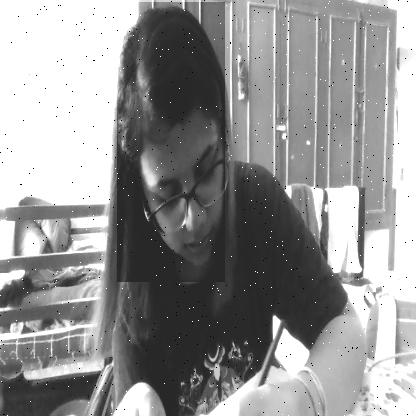Distracted: (117, 2, 225, 282)
